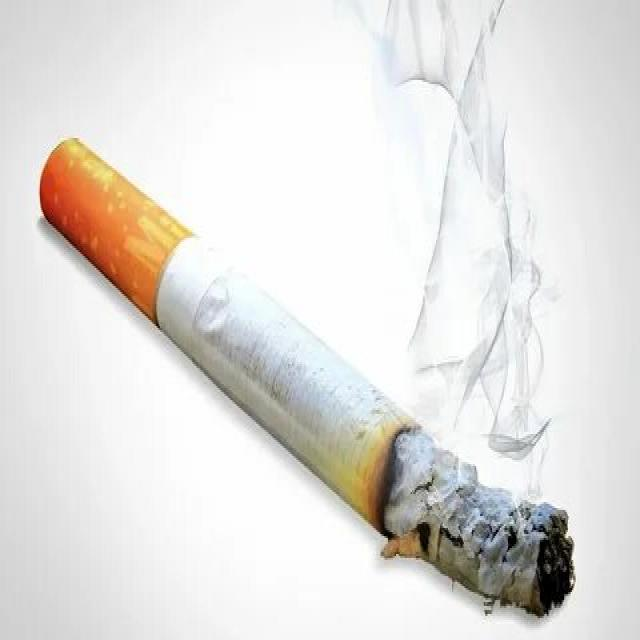cigarette: (41, 132, 576, 634)
